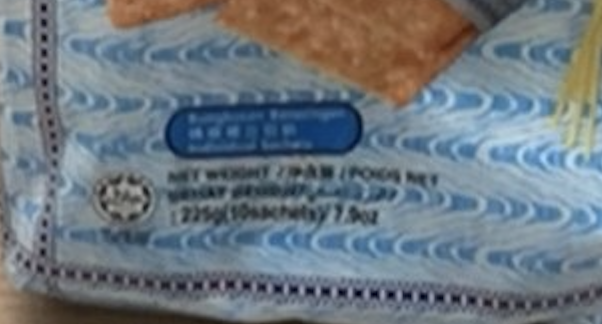halal: (106, 184, 145, 215)
